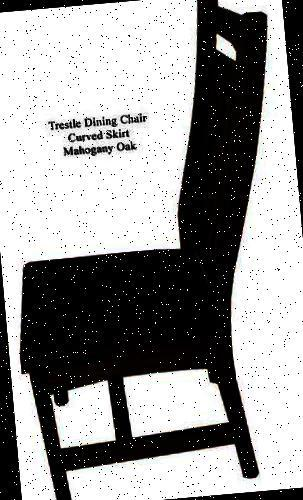Silla: (0, 0, 301, 499)
